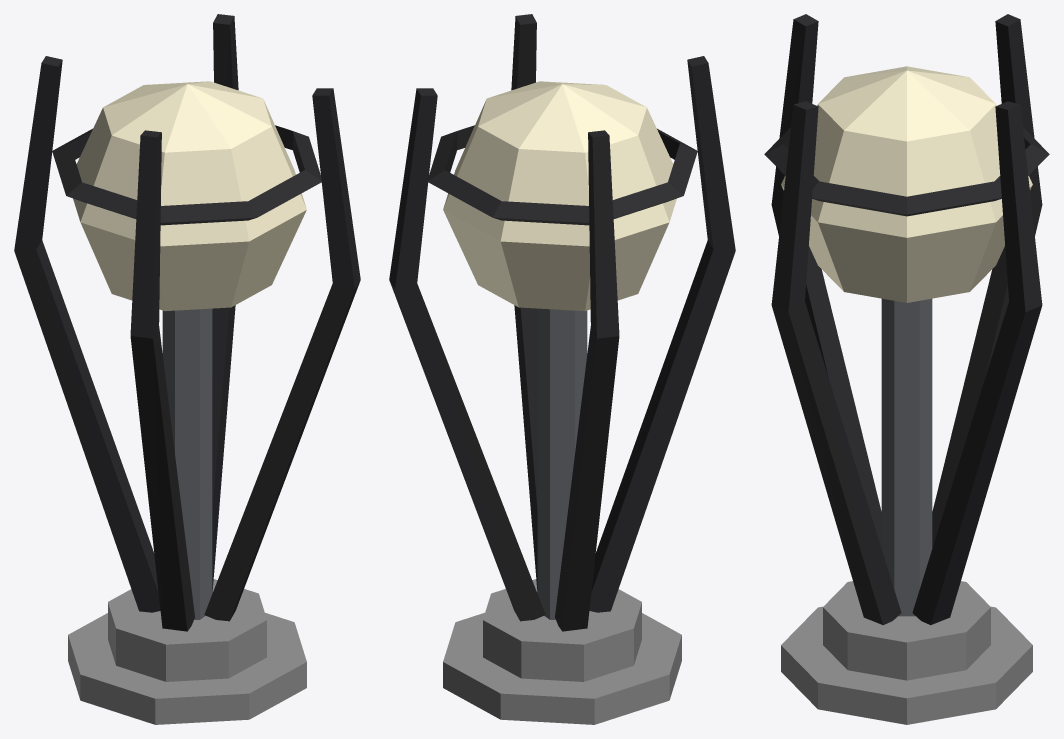
File: vfem2_viking_sun_lamp.obj
The picture shows the model from 3 angles, left to right: view 1: azimuth 30°, elevation 25°; view 2: azimuth 150°, elevation 25°; view 3: azimuth 270°, elevation 25°; orthographic projection.
Visible parts, largest first — view 1: vfem2_viking_sun_lamp; view 2: vfem2_viking_sun_lamp; view 3: vfem2_viking_sun_lamp.
Part boxes in pixels (x1,y1,x2,y2): vfem2_viking_sun_lamp: (14, 14, 360, 724); vfem2_viking_sun_lamp: (389, 14, 735, 724); vfem2_viking_sun_lamp: (764, 14, 1049, 724).
Bounding box in the file's own units: 0.68 × 1.6 × 0.68.
